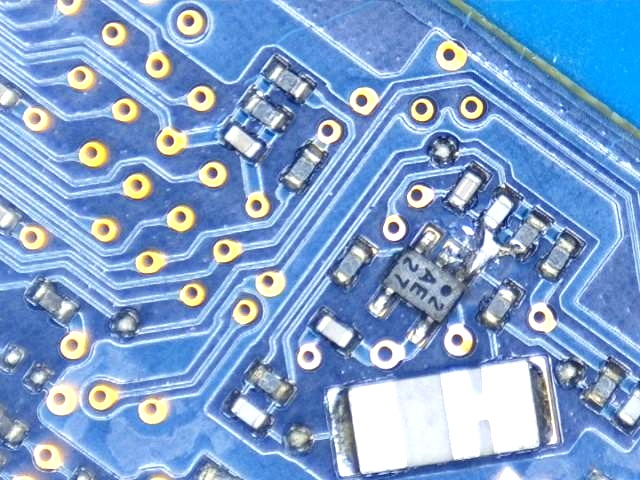pcb_defect: (442, 215, 526, 276)
